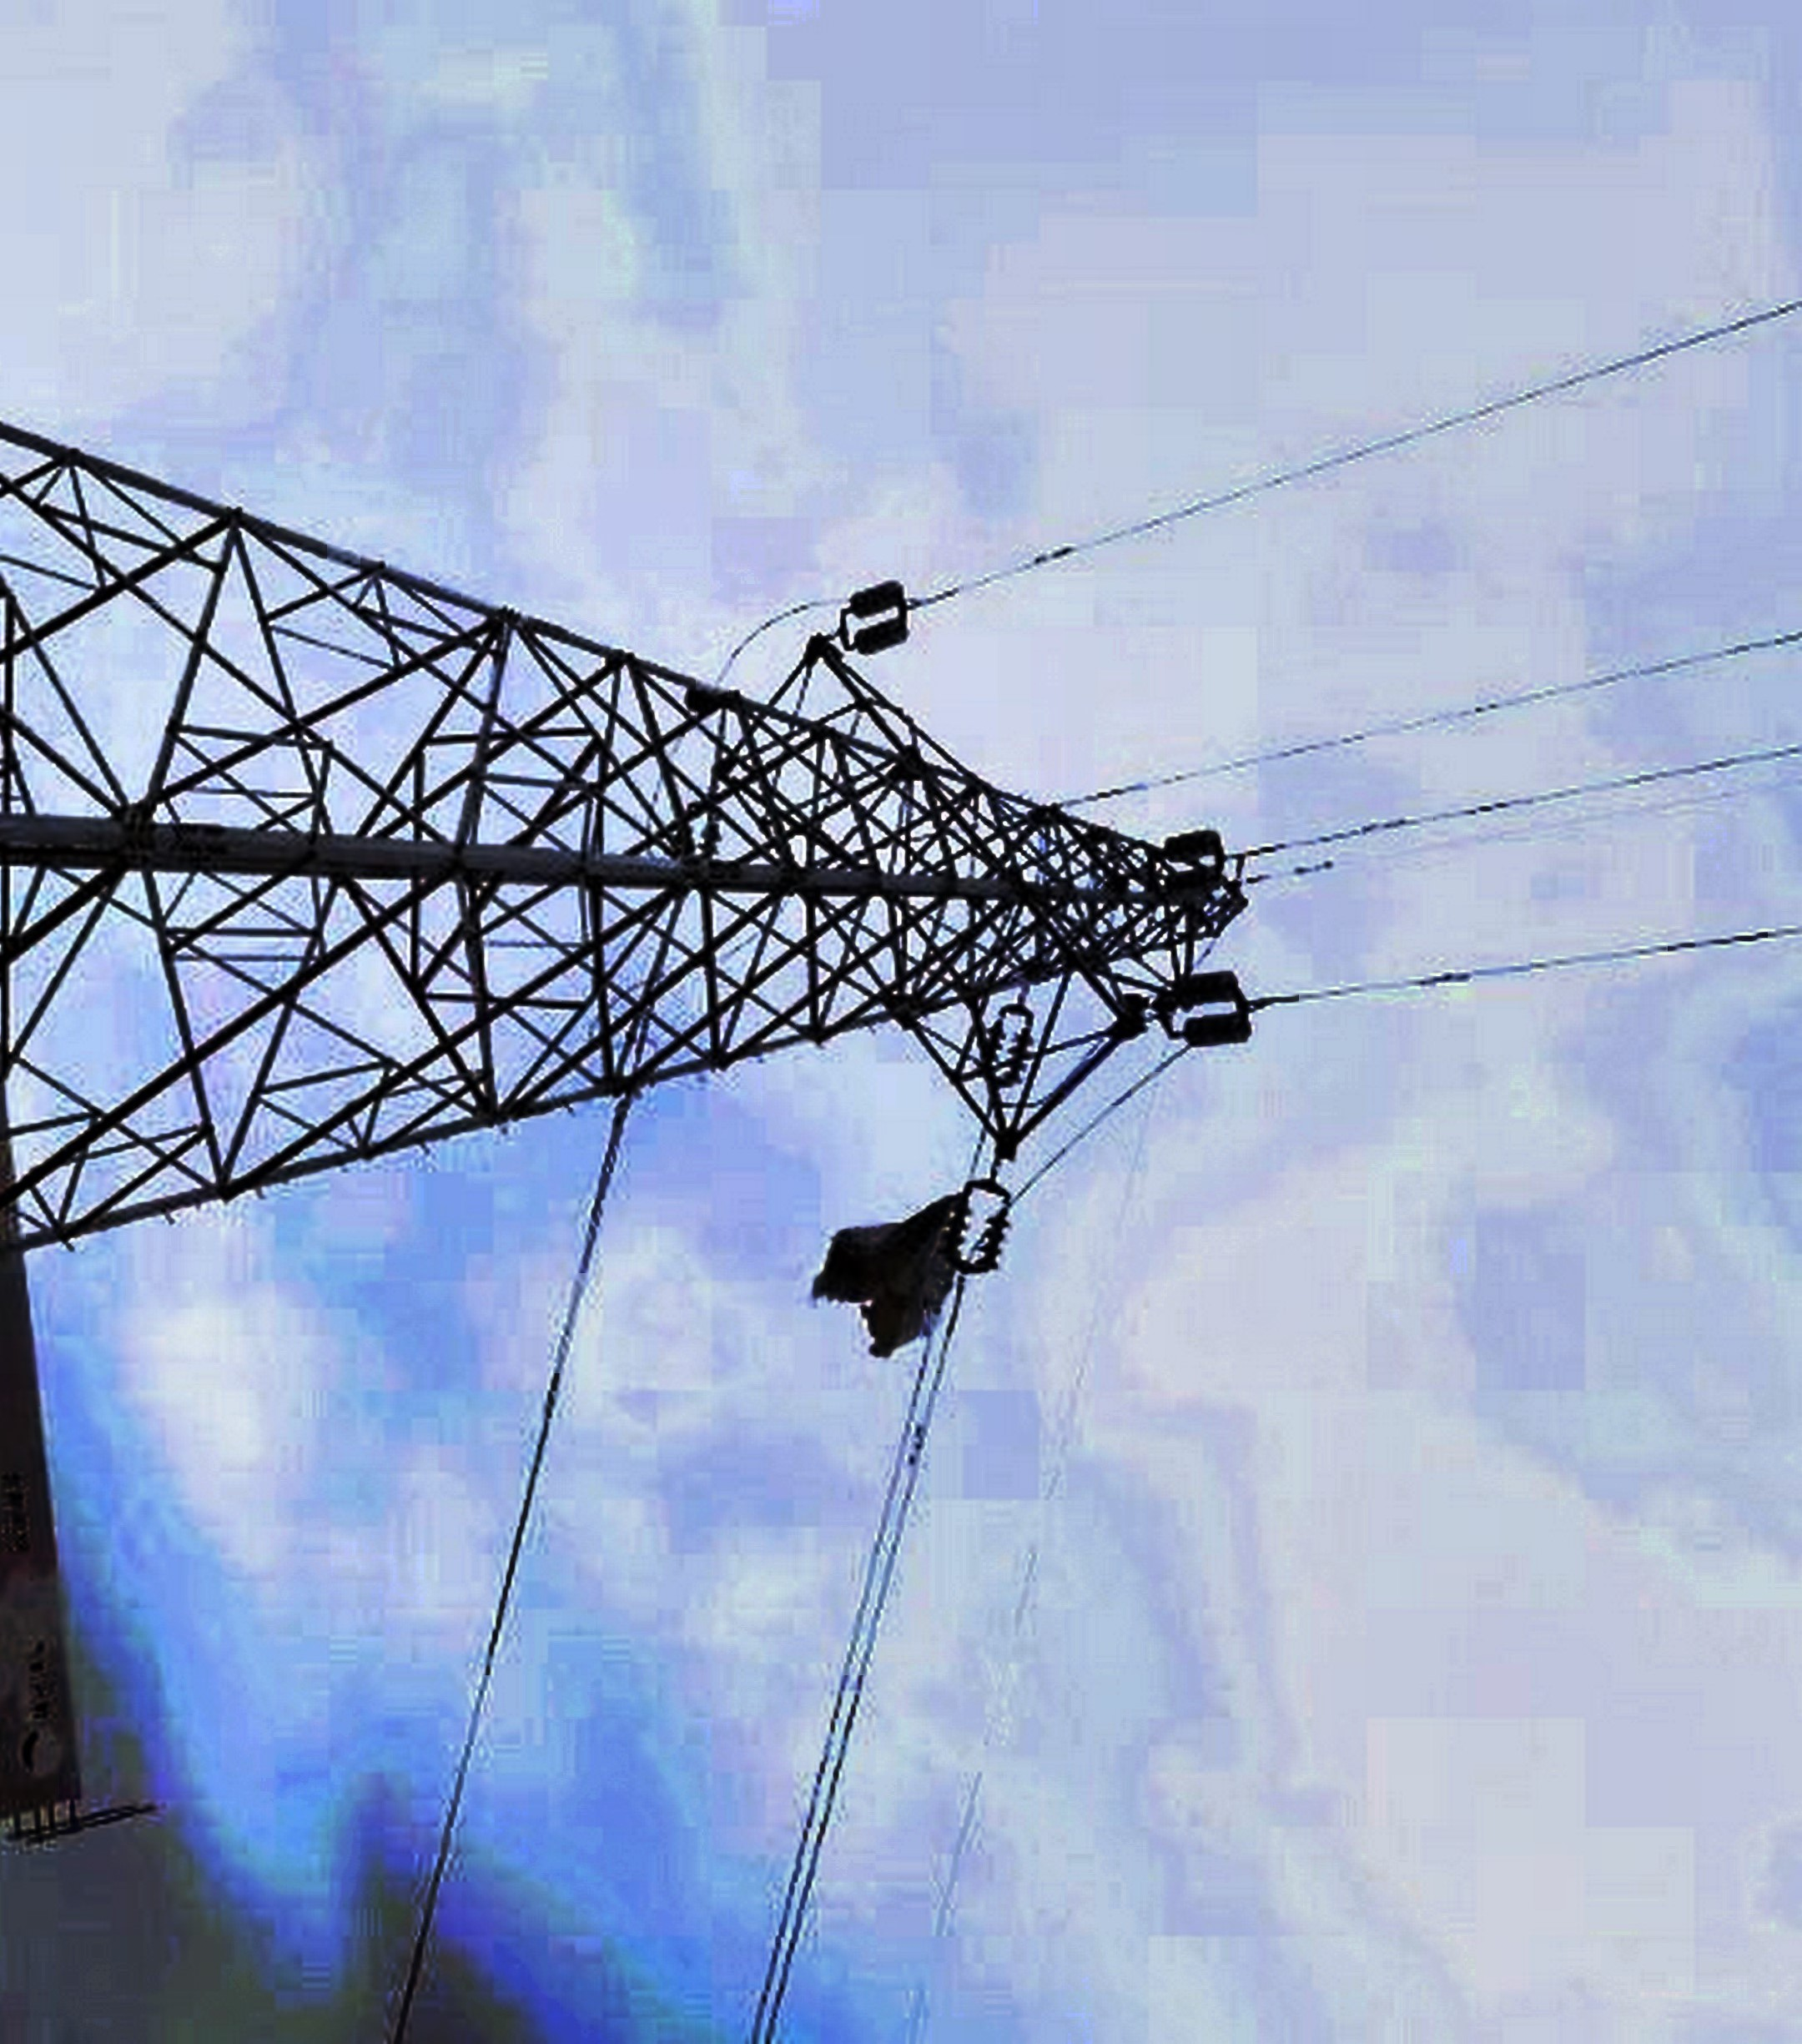wire foreign body: (793, 1148, 997, 1385)
